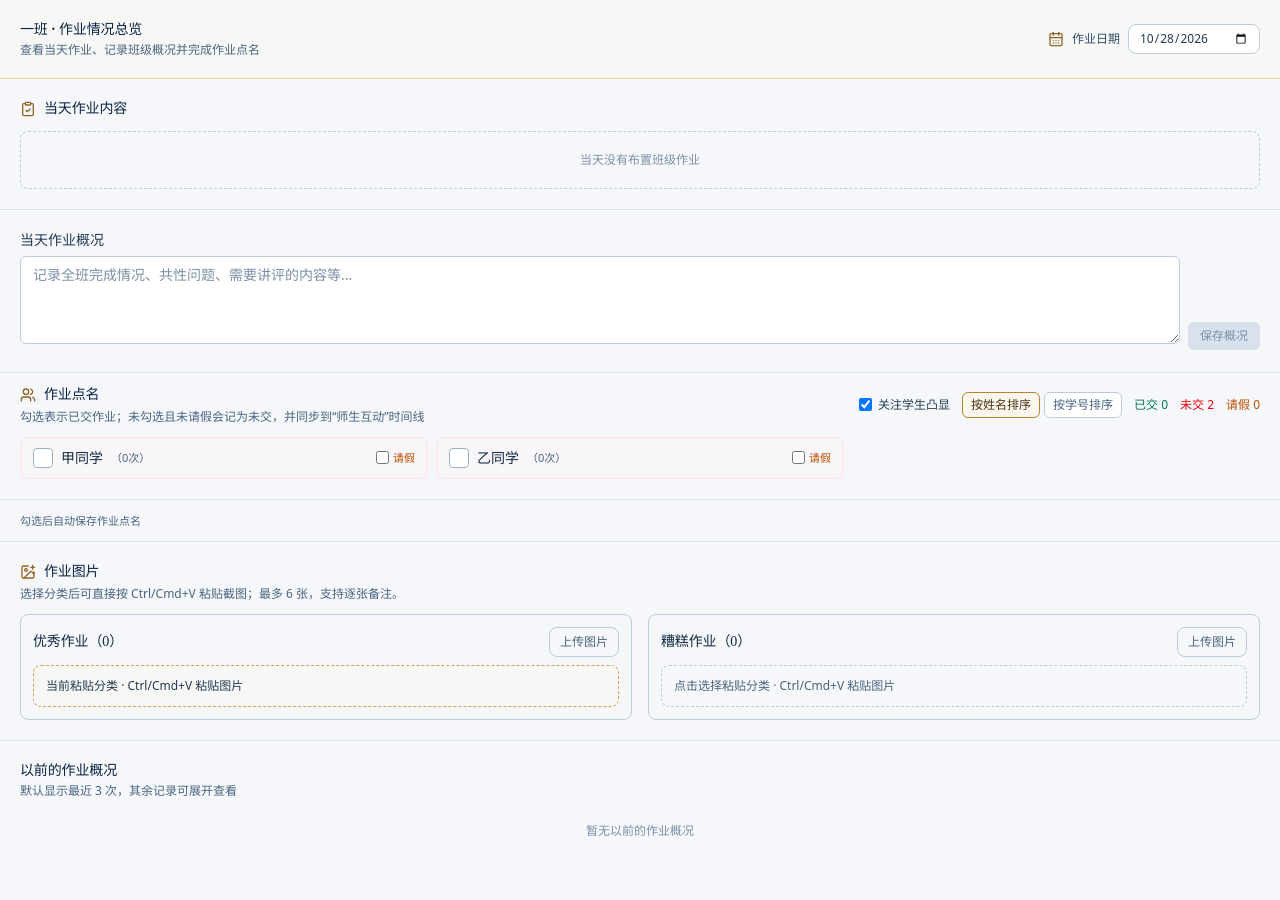
ClassHomeworkOverview › autosaves the last state after consecutive attendance changes
expect the heading "作业点名" is shown: met, box [44,385,100,405]
Click the checkbox named "甲同学已交作业". click: click(92, 458)
box: [33,448,150,468]
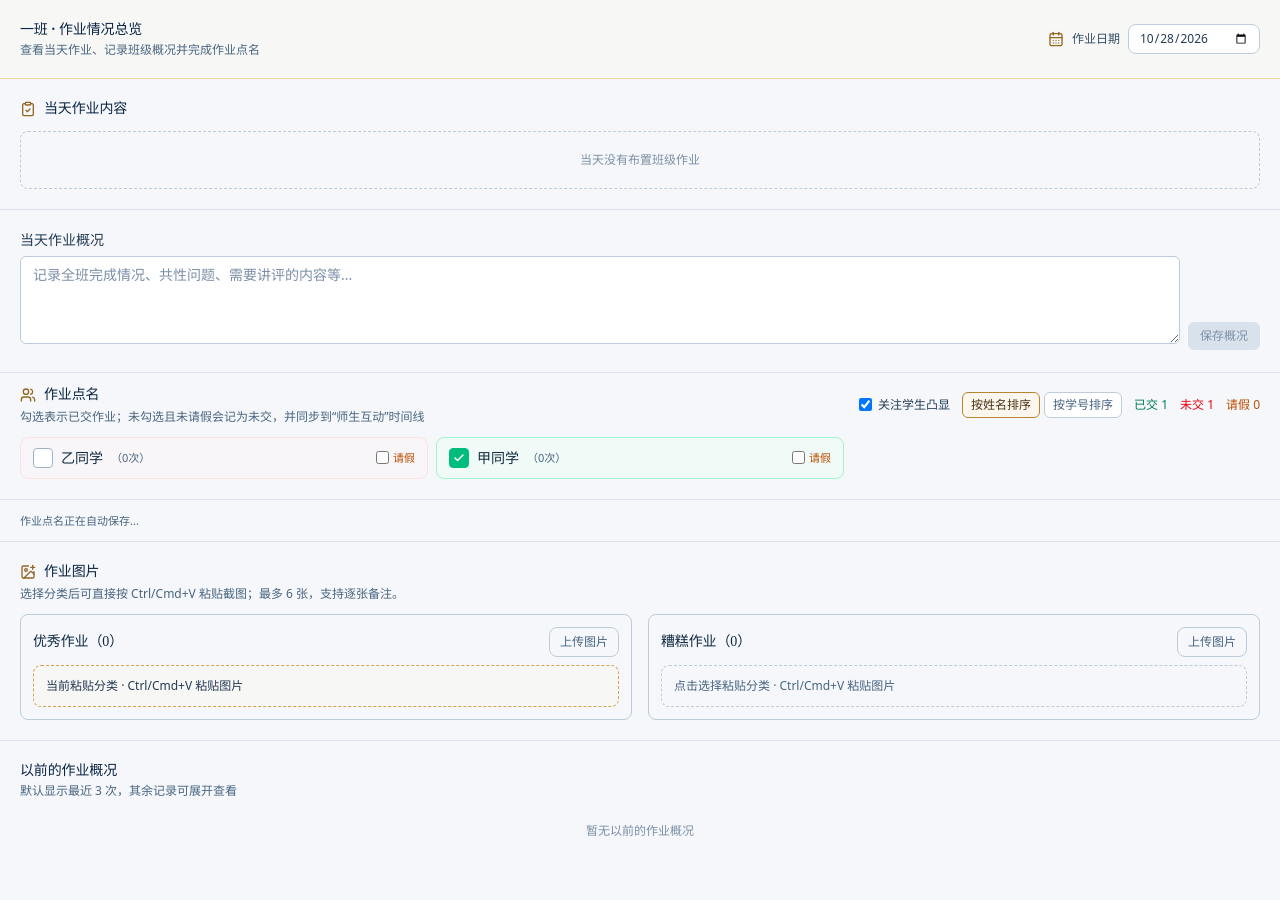
Click the checkbox named "甲同学请假". click: click(798, 458)
box: [792,451,805,464]
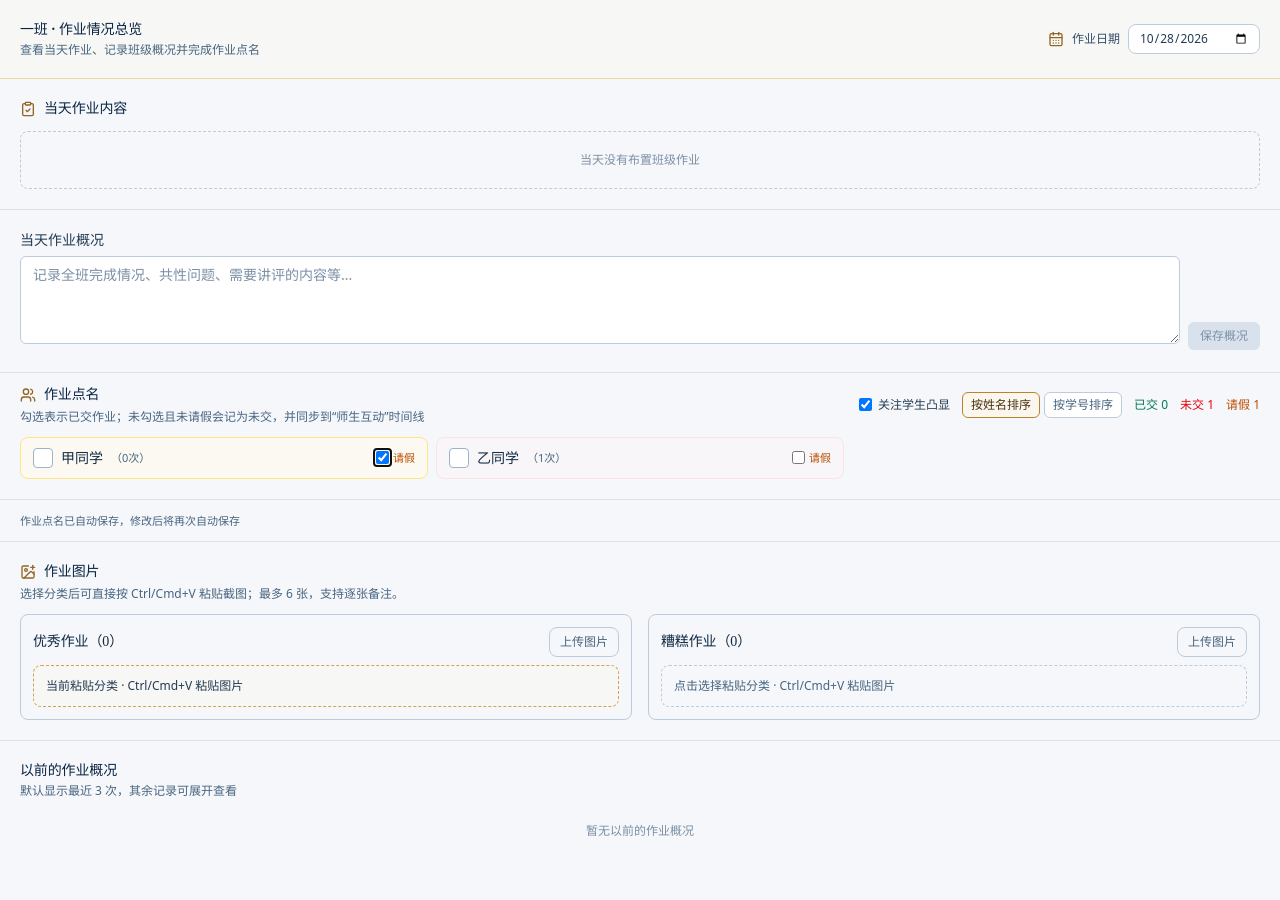
expect the message "保存作业点名" is not shown: met
expect the text "作业点名已自动保存，修改后将再次自动保存" is shown: met, box [0,499,1279,541]
